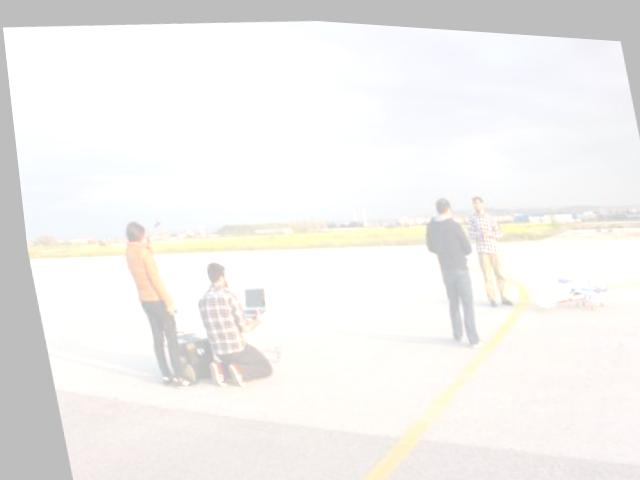uav: (518, 261, 614, 310)
